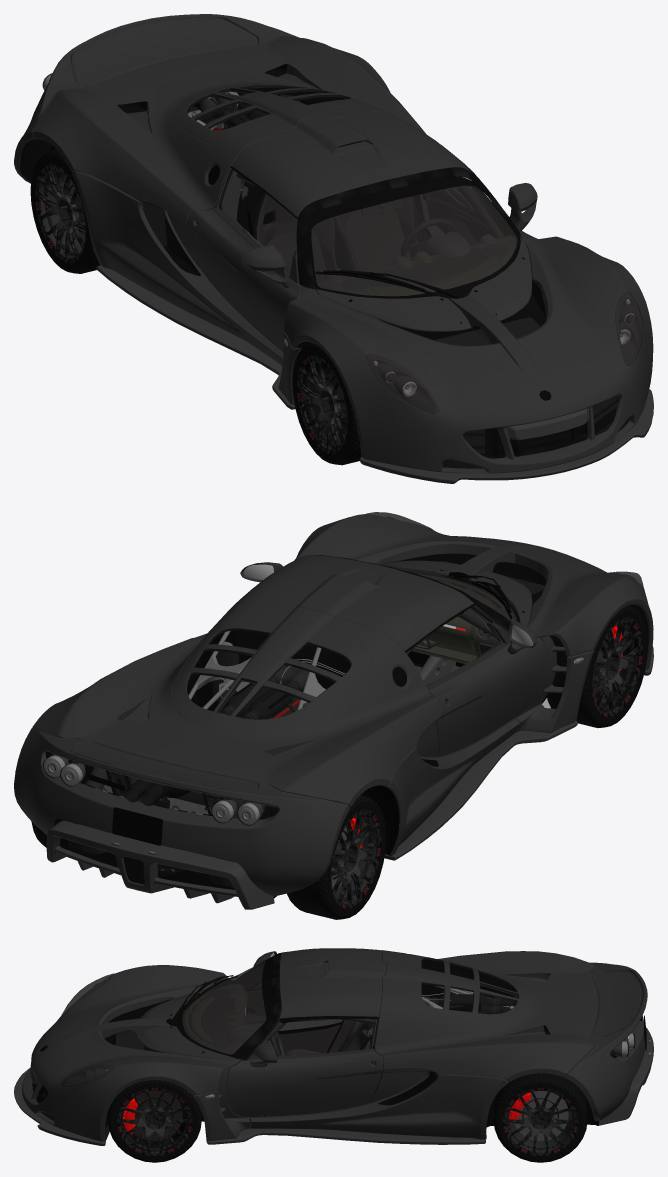
Rendered from car_rigged.glb.
3 views of the same model, one above another, from view 1: azimuth 30°, elevation 25°; view 2: azimuth 150°, elevation 25°; view 3: azimuth 270°, elevation 25° (orthographic). The views are drawn at different scales.
Visible parts, largest first — view 1: heDEF-Body_2, door_rf_ok_1, heDEF- Wheel.Ft.R_6, heDEF- Wheel.Bk.R_10, door_lf_ok_0; view 2: heDEF-Body_2, door_rf_ok_1, heDEF- Wheel.Bk.R_10, heDEF- Wheel.Ft.R_6, door_lf_ok_0; view 3: heDEF-Body_2, door_lf_ok_0, heDEF- Wheel.Bk.L_8, heDEF- Wheel.Ft.L_4, door_rf_ok_1.
Boxes of the visible parts, x1=… form: heDEF-Body_2: x1=14, y1=14, x2=653, y2=483; door_rf_ok_1: x1=186, y1=207, x2=301, y2=357; heDEF- Wheel.Ft.R_6: x1=292, y1=342, x2=361, y2=465; heDEF- Wheel.Bk.R_10: x1=30, y1=149, x2=100, y2=273; door_lf_ok_0: x1=426, y1=183, x2=537, y2=245; heDEF-Body_2: x1=14, y1=512, x2=653, y2=909; door_rf_ok_1: x1=426, y1=621, x2=547, y2=756; heDEF- Wheel.Bk.R_10: x1=287, y1=795, x2=386, y2=919; heDEF- Wheel.Ft.R_6: x1=547, y1=605, x2=647, y2=727; door_lf_ok_0: x1=194, y1=562, x2=282, y2=639; heDEF-Body_2: x1=14, y1=948, x2=653, y2=1145; door_lf_ok_0: x1=226, y1=1039, x2=383, y2=1116; heDEF- Wheel.Bk.L_8: x1=493, y1=1073, x2=587, y2=1162; heDEF- Wheel.Ft.L_4: x1=107, y1=1080, x2=201, y2=1162; door_rf_ok_1: x1=247, y1=951, x2=334, y2=1025.
Size of the model in its own units: 2.08 by 1.25 by 4.92.
26 materials, 15 textured.
